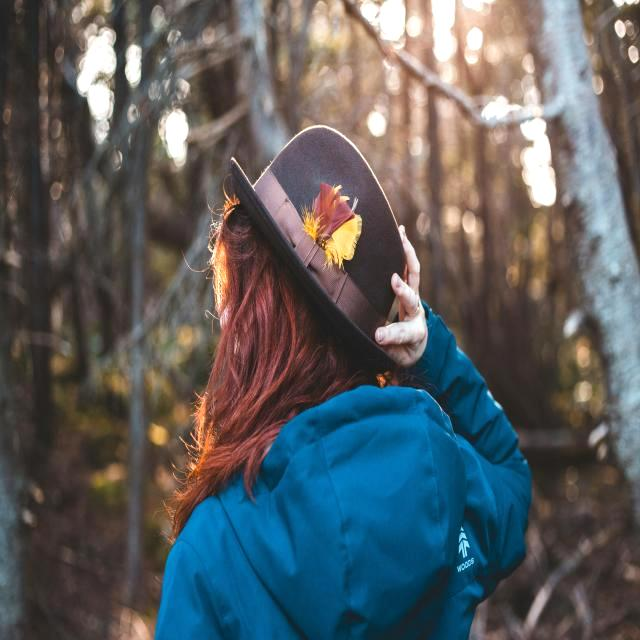no_hard_hat: (254, 126, 409, 349)
person: (156, 126, 531, 640)
